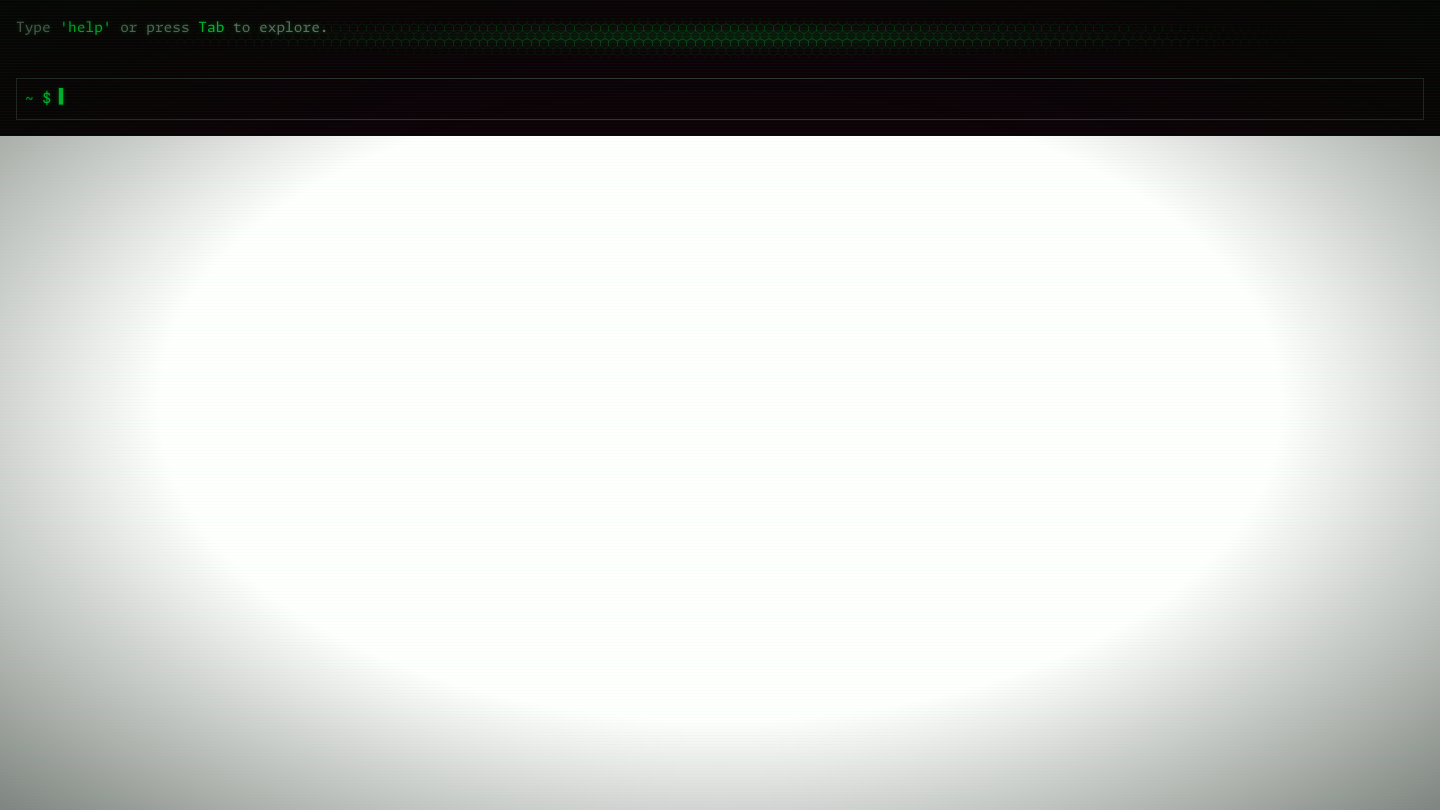
Test case: Terminal › shows sound status when no argument given
Step 1. Type "sound" into the field → (737, 100), box [59, 90, 1415, 110]
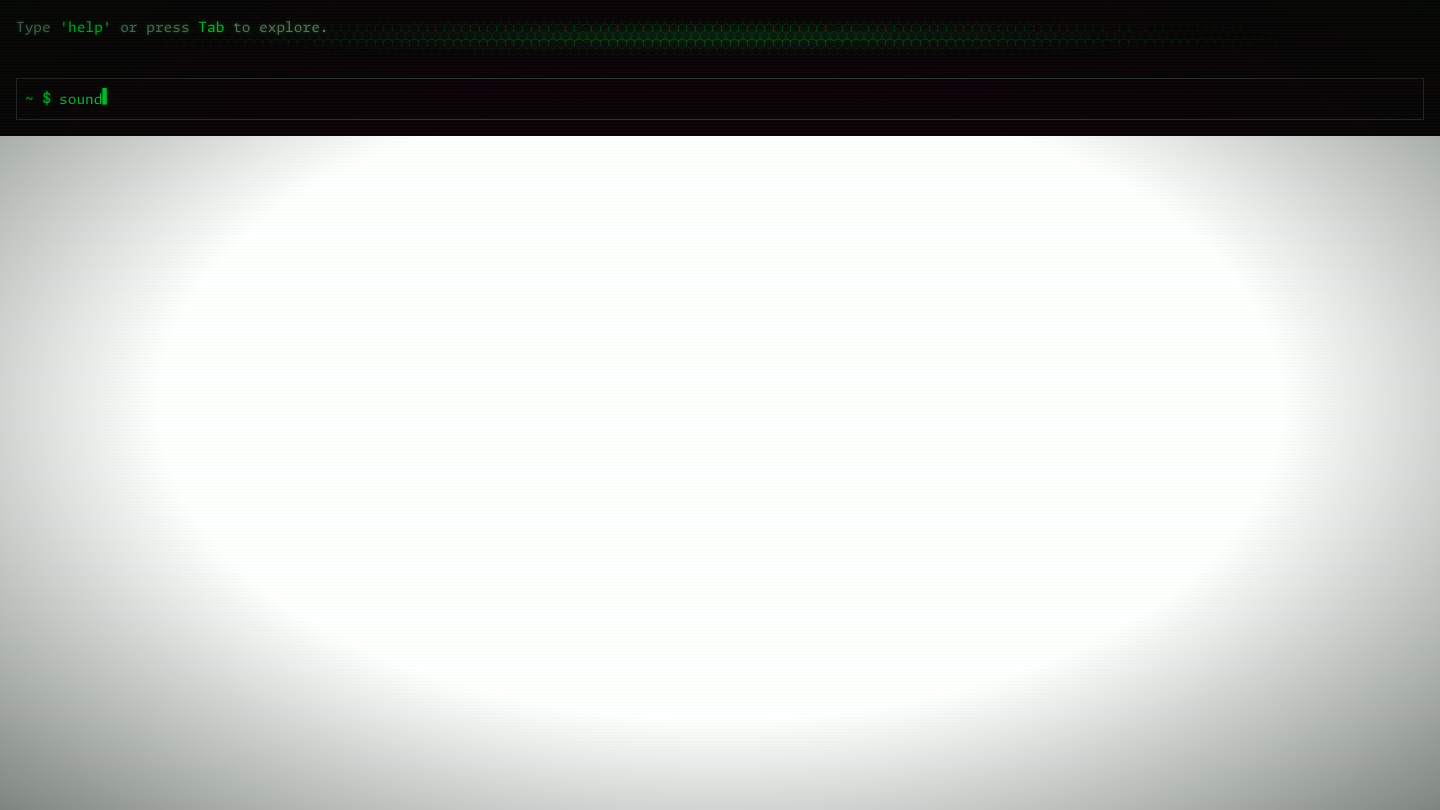
Step 2. Press Enter in the field, box [59, 90, 1415, 110]
Wait 600 ms
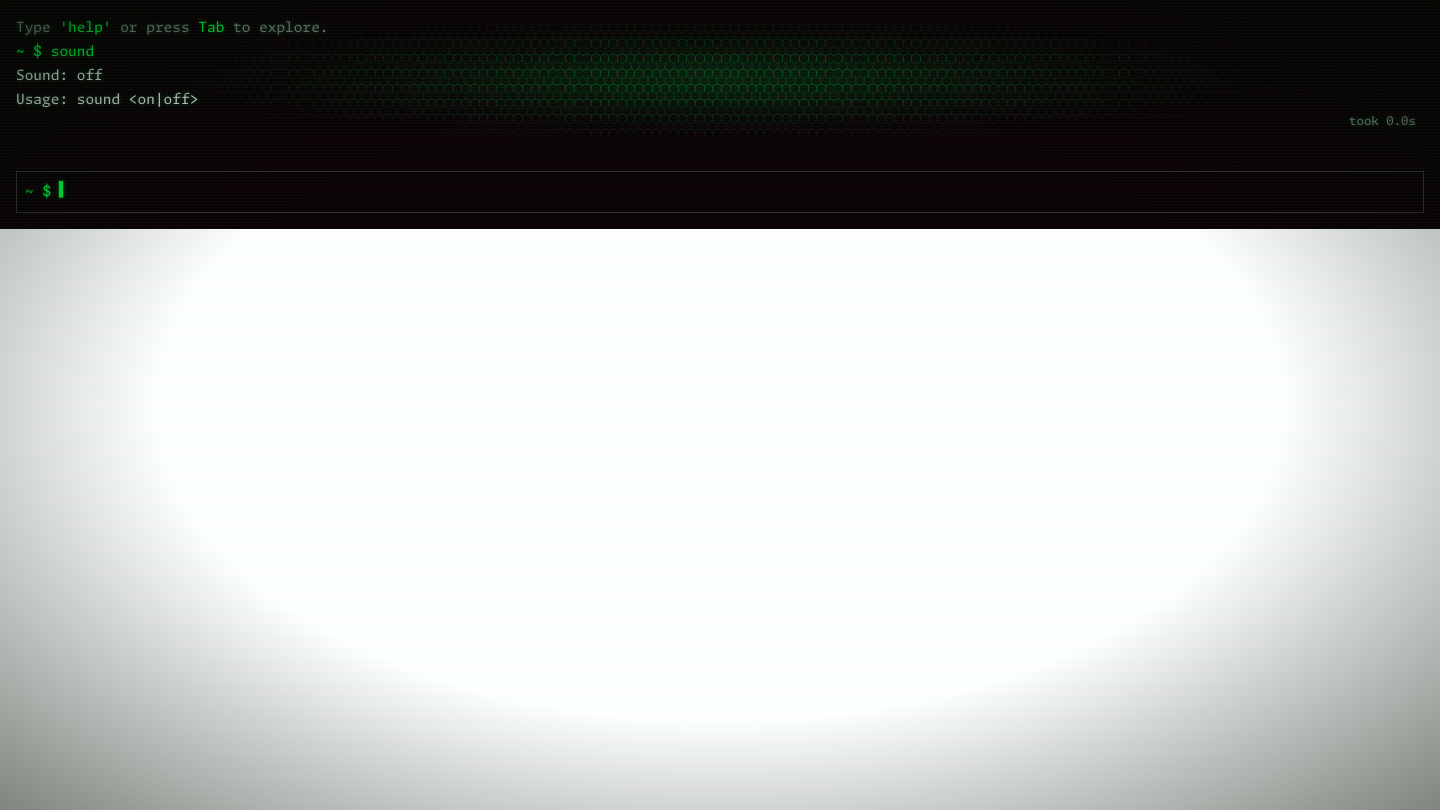
Now the text "Sound: off" is shown, box [16, 69, 103, 83]
